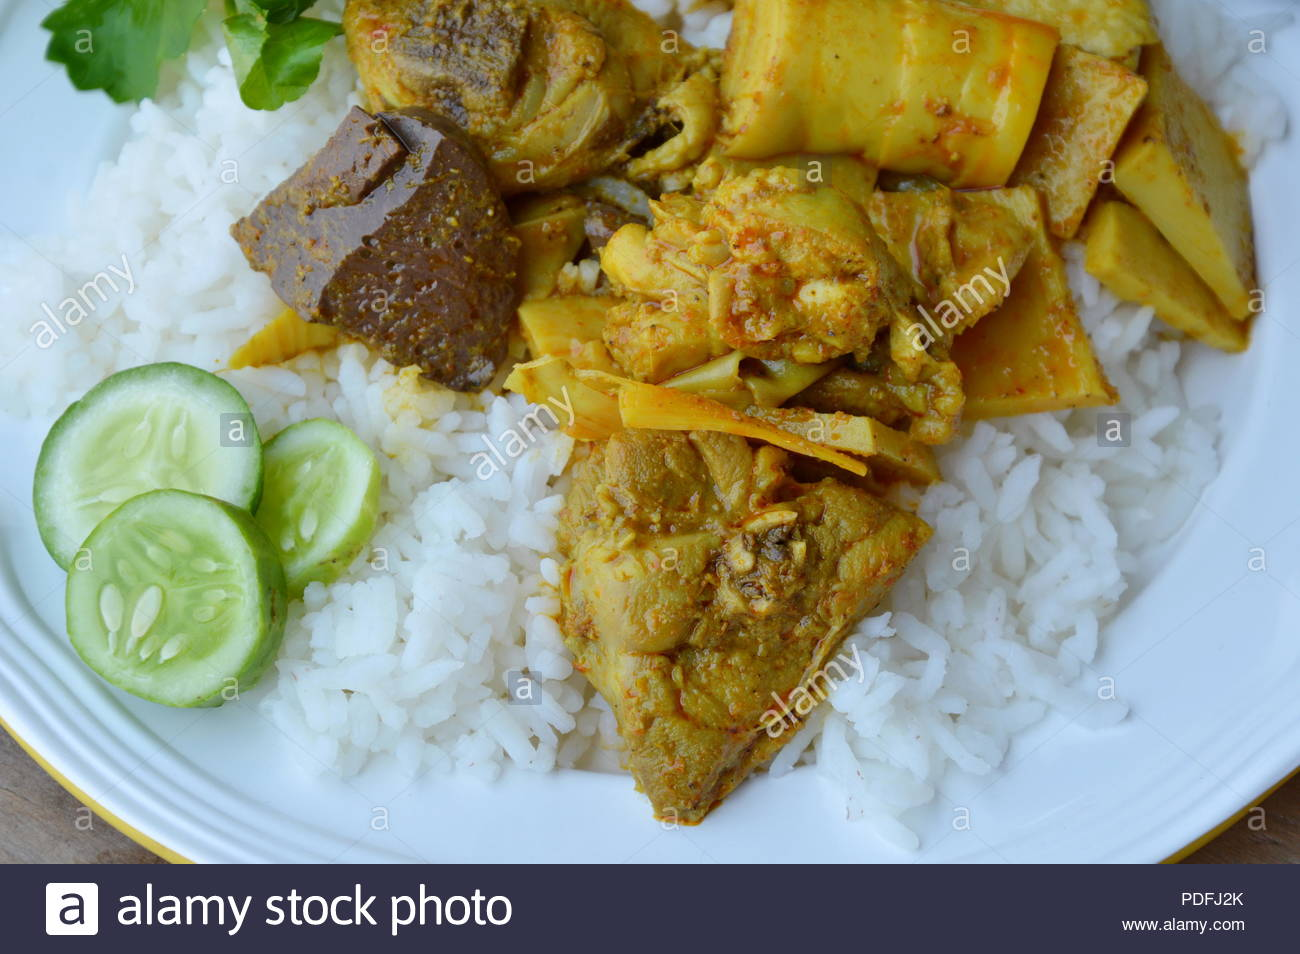plain rice: (850, 390, 1214, 776), (268, 369, 587, 779), (64, 86, 280, 358)
